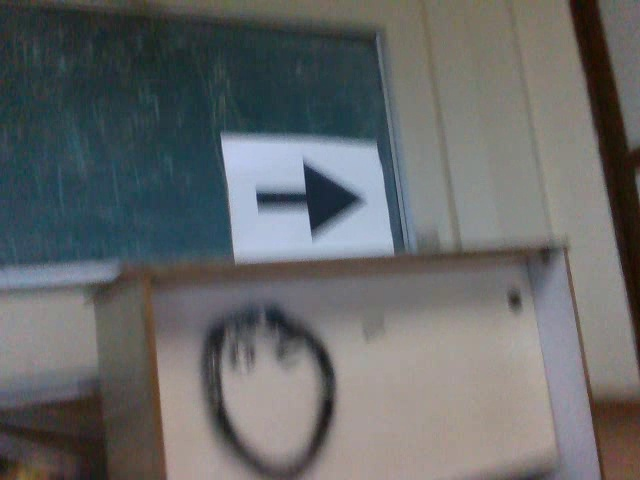Right: (249, 150, 369, 246)
